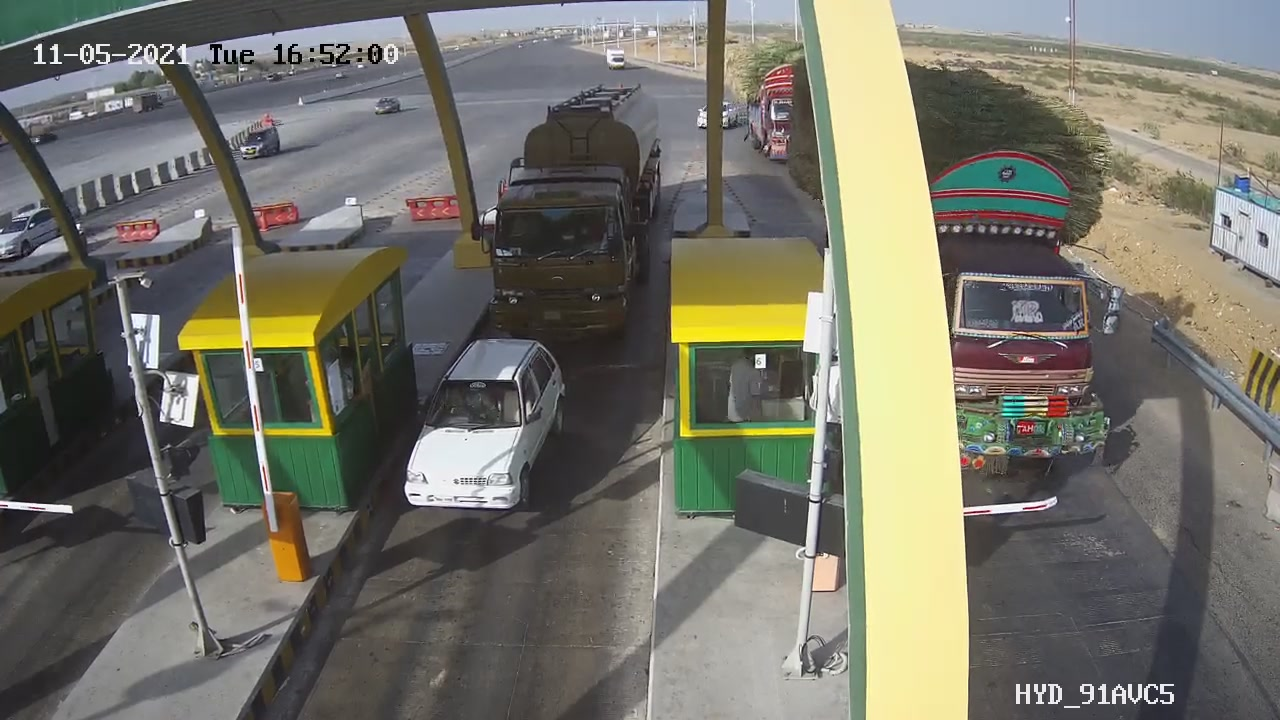F1: (385, 325, 583, 529)
F6: (480, 59, 670, 353)
